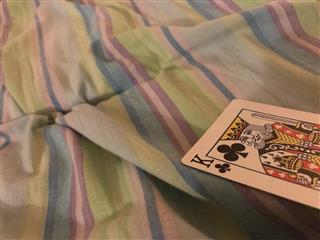KingOfClubs: (179, 97, 320, 209)
